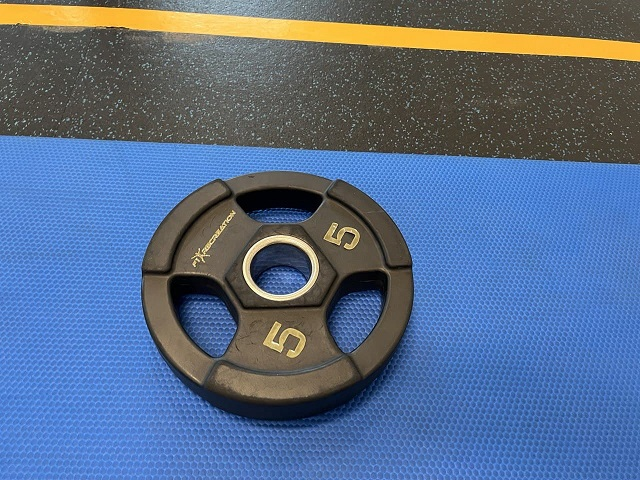weights: (139, 170, 407, 423)
